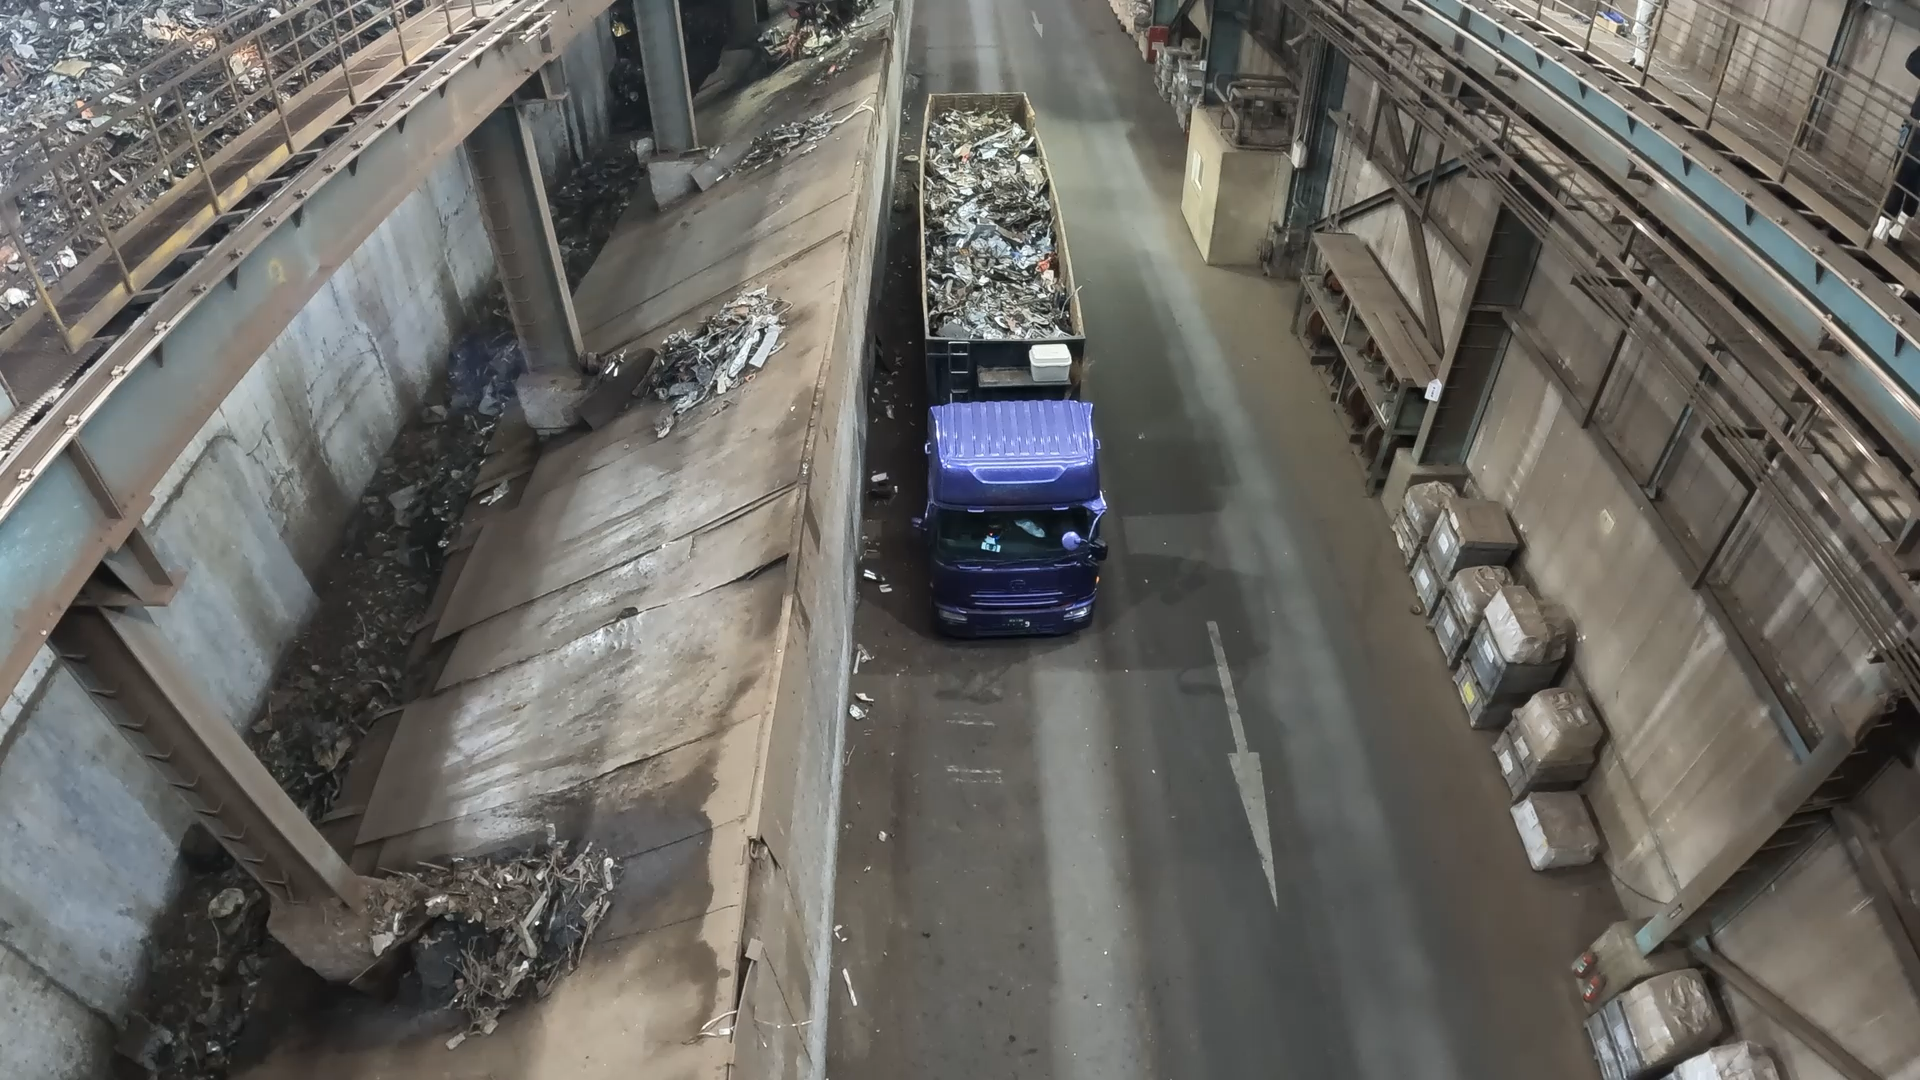truck: (920, 91, 1083, 340)
